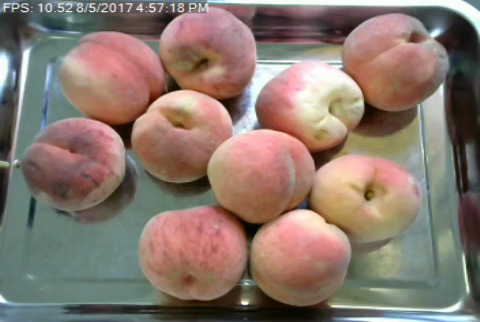Peach: (341, 11, 446, 112), (308, 154, 422, 246), (138, 206, 248, 301), (255, 58, 360, 155), (21, 117, 128, 211), (250, 208, 351, 307), (60, 29, 164, 125), (207, 128, 308, 222), (135, 89, 234, 184), (159, 5, 257, 98)
